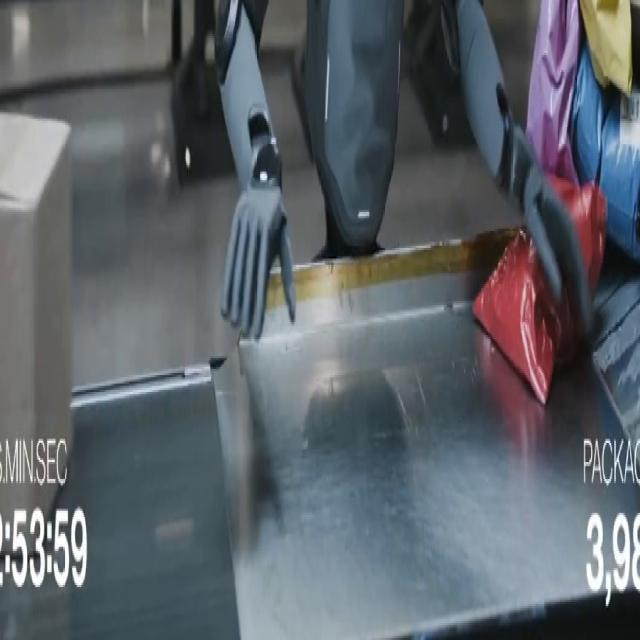package: (0, 115, 72, 550), (473, 229, 581, 404), (527, 0, 580, 182), (600, 90, 639, 262), (572, 43, 610, 184), (580, 0, 632, 95), (631, 0, 639, 84)
